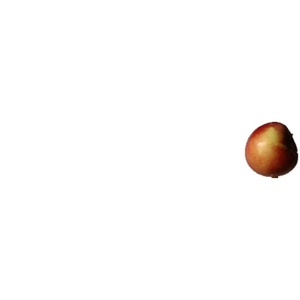maçã braeburn: (245, 119, 299, 178)
